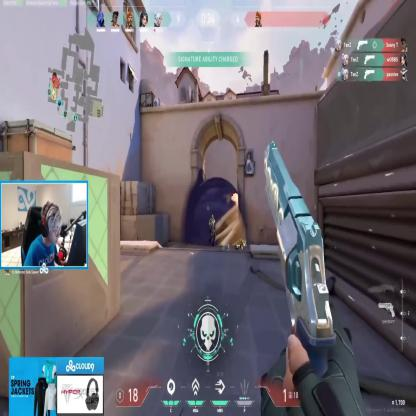enemy: (208, 212, 215, 246)
enemy_head: (211, 214, 214, 221)
